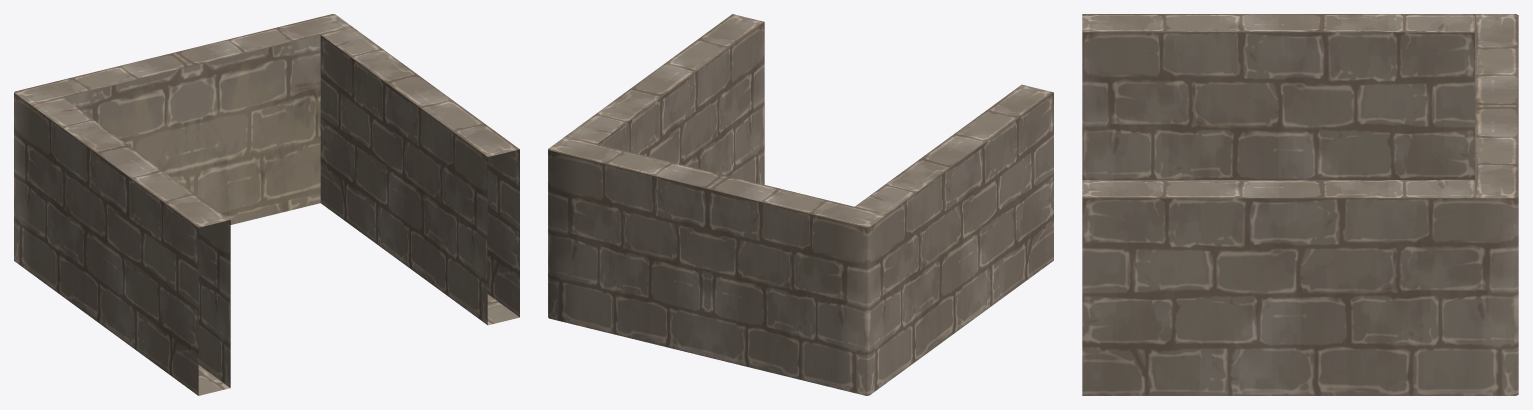
File: Stairs_Exterior_SidesU.gltf
3 views of the same model, side by side, from view 1: azimuth 30°, elevation 25°; view 2: azimuth 150°, elevation 25°; view 3: azimuth 270°, elevation 25° (orthographic). The views are drawn at different scales.
Visible parts, largest first — view 1: Stairs_Exterior_SidesU; view 2: Stairs_Exterior_SidesU; view 3: Stairs_Exterior_SidesU.
Boxes of the visible parts, x1,y1,x2,y2 form: Stairs_Exterior_SidesU: (14, 14, 519, 395); Stairs_Exterior_SidesU: (548, 14, 1053, 395); Stairs_Exterior_SidesU: (1082, 14, 1518, 395).
Size of the model in its own units: 2 by 1 by 2.
1 material, 1 textured.
